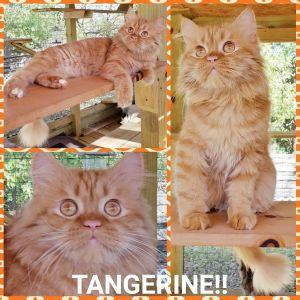persian: (175, 7, 273, 103)
